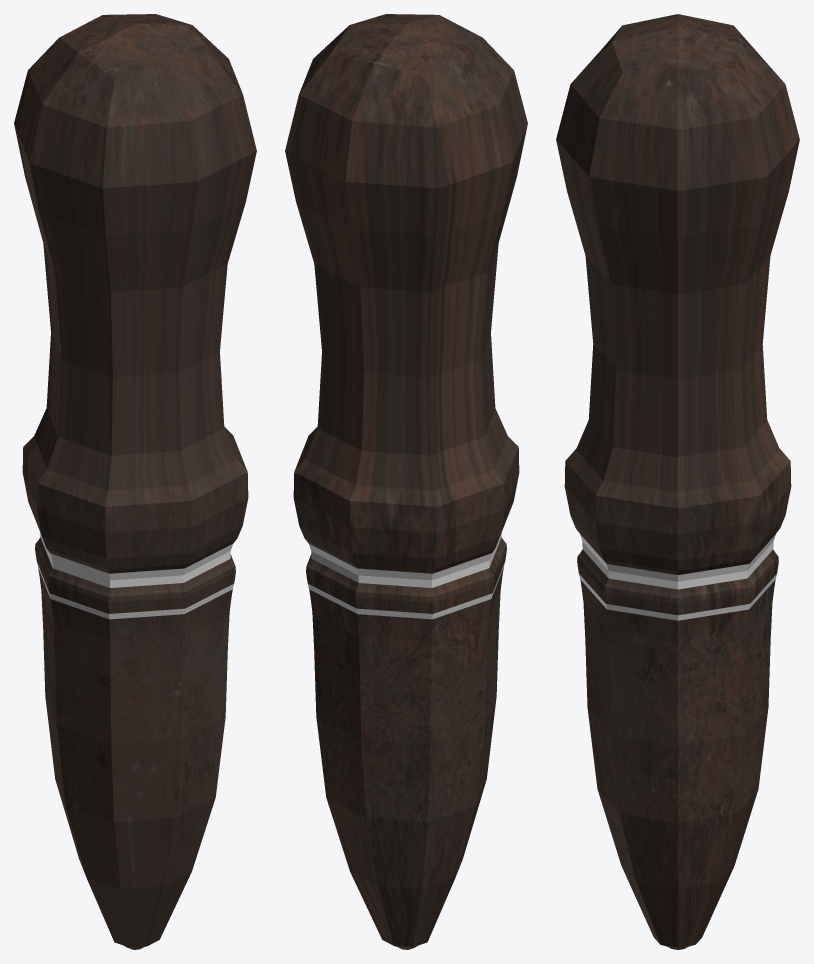
File: toxic_spore.fbx
3 views of the same model, side by side, from view 1: azimuth 30°, elevation 25°; view 2: azimuth 150°, elevation 25°; view 3: azimuth 270°, elevation 25° (orthographic).
Visible parts, largest first — view 1: Cube; view 2: Cube; view 3: Cube.
Boxes of the visible parts, x1=… form: Cube: x1=14, y1=14, x2=256, y2=949; Cube: x1=285, y1=14, x2=527, y2=949; Cube: x1=556, y1=14, x2=799, y2=949.
Size of the model in its own units: 122 by 509 by 122.
2 materials, 1 textured.
